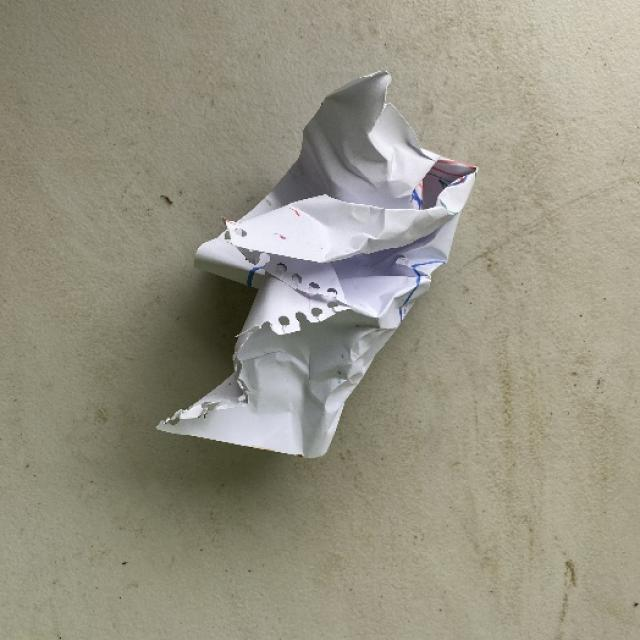paper: (155, 68, 478, 458)
